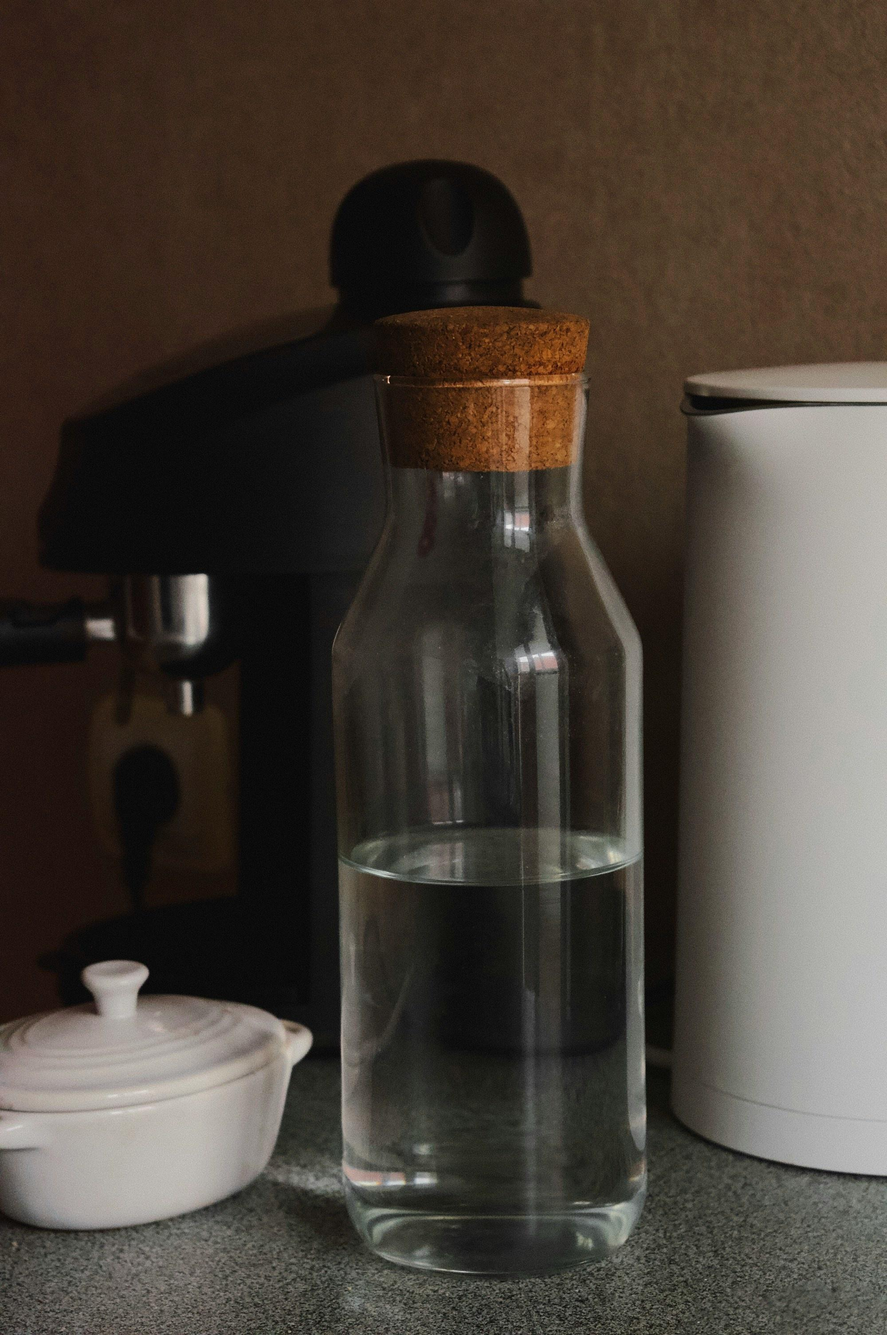Bottle-Detection: (204, 226, 736, 1323)
